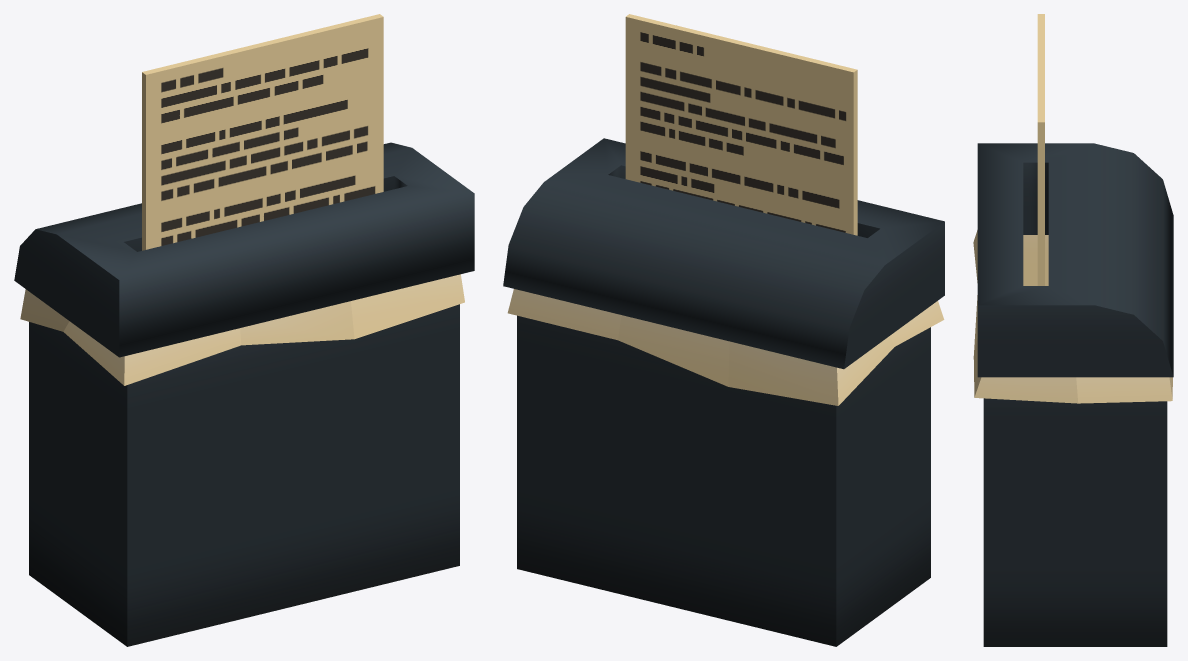
Rendered from SK_Shredder.fbx.
3 views of the same model, side by side, from view 1: azimuth 30°, elevation 25°; view 2: azimuth 150°, elevation 25°; view 3: azimuth 270°, elevation 25° (orthographic). The views are drawn at different scales.
Visible parts, largest first — view 1: SM_Trituradora_Cuerpo, SM_Trituradora_Mainpart, SM_Trituradora_Folio, SM_Trituradora._Bolsa; view 2: SM_Trituradora_Cuerpo, SM_Trituradora_Mainpart, SM_Trituradora_Folio, SM_Trituradora._Bolsa; view 3: SM_Trituradora_Cuerpo, SM_Trituradora_Mainpart, SM_Trituradora._Bolsa, SM_Trituradora_Folio.
Part boxes in pixels (x1=…): SM_Trituradora_Cuerpo: x1=29, y1=304, x2=459, y2=646; SM_Trituradora_Mainpart: x1=14, y1=142, x2=474, y2=357; SM_Trituradora_Folio: x1=142, y1=14, x2=383, y2=250; SM_Trituradora._Bolsa: x1=20, y1=274, x2=464, y2=385; SM_Trituradora_Cuerpo: x1=517, y1=315, x2=930, y2=646; SM_Trituradora_Mainpart: x1=503, y1=138, x2=944, y2=369; SM_Trituradora_Folio: x1=625, y1=14, x2=857, y2=235; SM_Trituradora._Bolsa: x1=507, y1=289, x2=944, y2=405; SM_Trituradora_Cuerpo: x1=983, y1=398, x2=1167, y2=646; SM_Trituradora_Mainpart: x1=977, y1=143, x2=1173, y2=377; SM_Trituradora._Bolsa: x1=973, y1=230, x2=1172, y2=403; SM_Trituradora_Folio: x1=1037, y1=14, x2=1044, y2=285.
Size of the model in its own units: 45.18 by 64.97 by 23.44.
